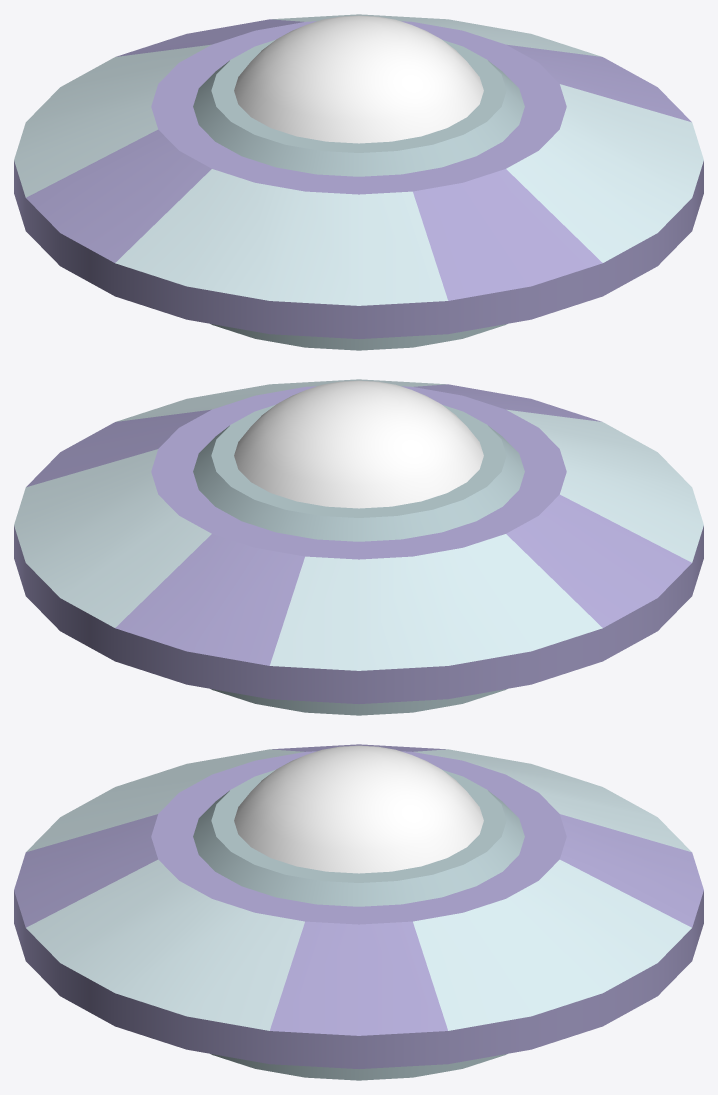
The model's file is enemy_ufoPurple.glb.
The picture shows the model from 3 angles, top to bottom: view 1: azimuth 30°, elevation 25°; view 2: azimuth 150°, elevation 25°; view 3: azimuth 270°, elevation 25°; orthographic projection.
Parts seen in each view (by area): view 1: enemy_ufoPurple; view 2: enemy_ufoPurple; view 3: enemy_ufoPurple.
Part boxes in pixels (x1,y1,x2,y2): enemy_ufoPurple: (14,14,703,350); enemy_ufoPurple: (14,379,703,715); enemy_ufoPurple: (14,744,703,1080).
Bounding box in the file's own units: 1 × 0.3712 × 1.
